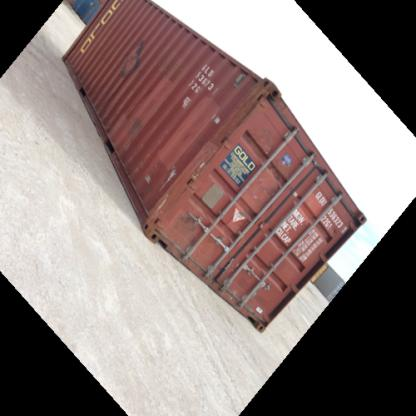Damage: (116, 147, 156, 209), (224, 86, 262, 134), (113, 100, 148, 138), (110, 42, 147, 76), (68, 52, 92, 84)
